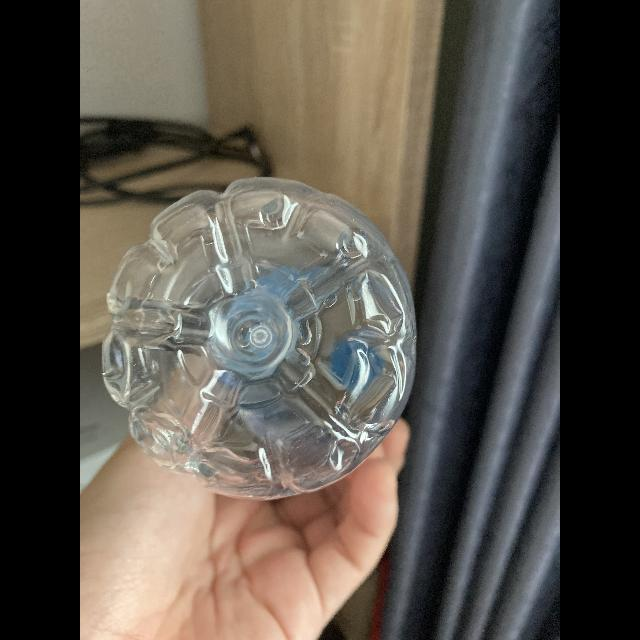plastic_bottle: (95, 164, 423, 506)
